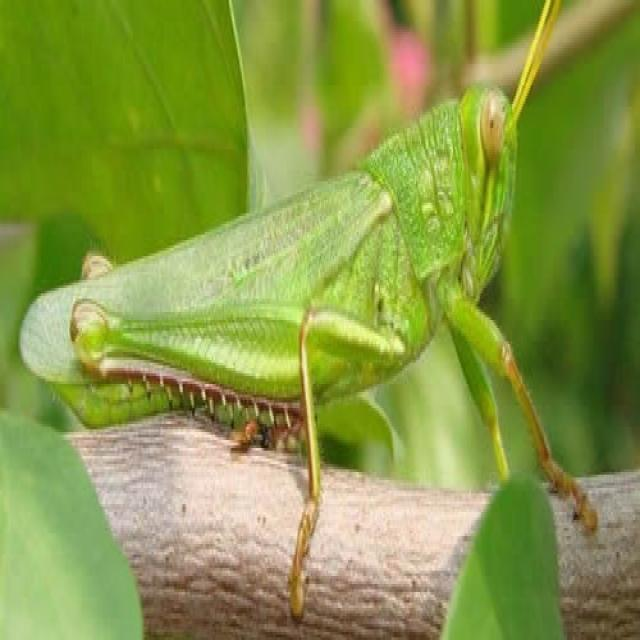ZhaMeng: (21, 73, 585, 536)
